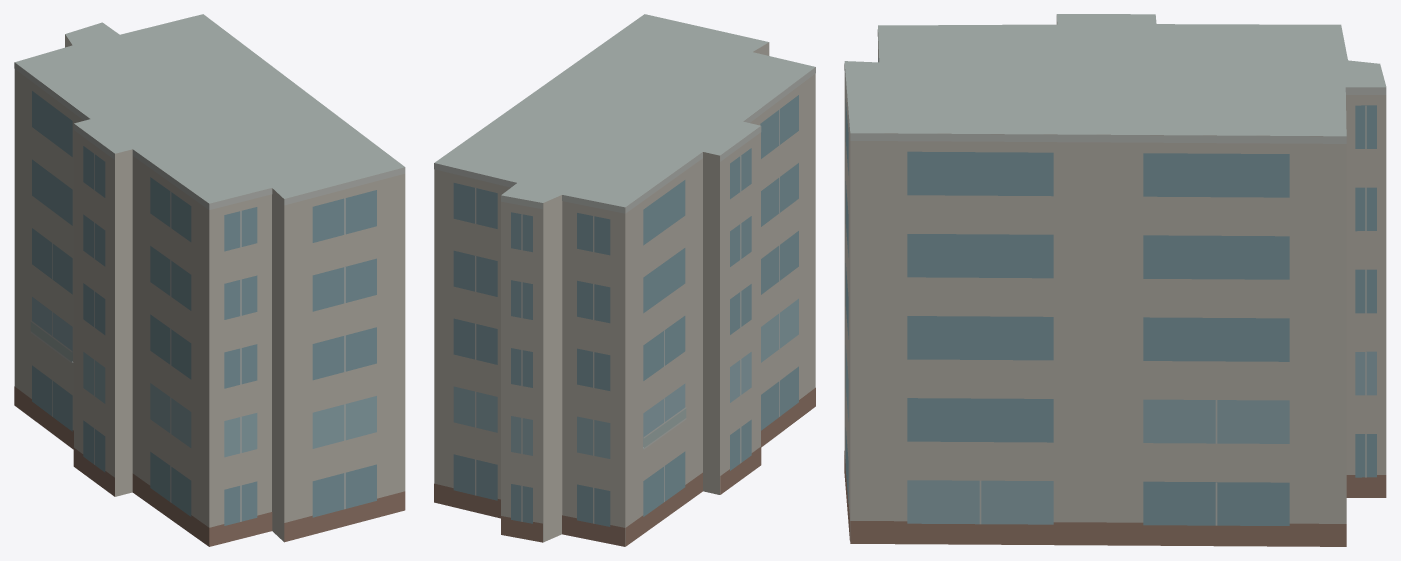
The model's file is survey-upis-32876250.glb.
3 renders of one model, left to right at view 1: azimuth 30°, elevation 25°; view 2: azimuth 150°, elevation 25°; view 3: azimuth 270°, elevation 25°, orthographic. The views are drawn at different scales.
Parts seen in each view (by area): view 1: survey-upis-32876250.tmp; view 2: survey-upis-32876250.tmp; view 3: survey-upis-32876250.tmp.
Boxes of the visible parts, left/top/right/bottom form: survey-upis-32876250.tmp: left=14, top=14, right=405, bottom=546; survey-upis-32876250.tmp: left=434, top=14, right=815, bottom=546; survey-upis-32876250.tmp: left=844, top=14, right=1386, bottom=546.
Bounding box in the file's own units: 8.31 × 13 × 15.56.
